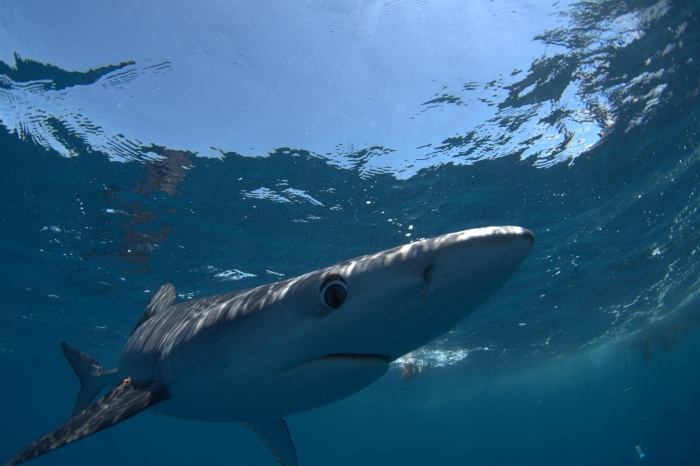Azul: (1, 200, 578, 466)
